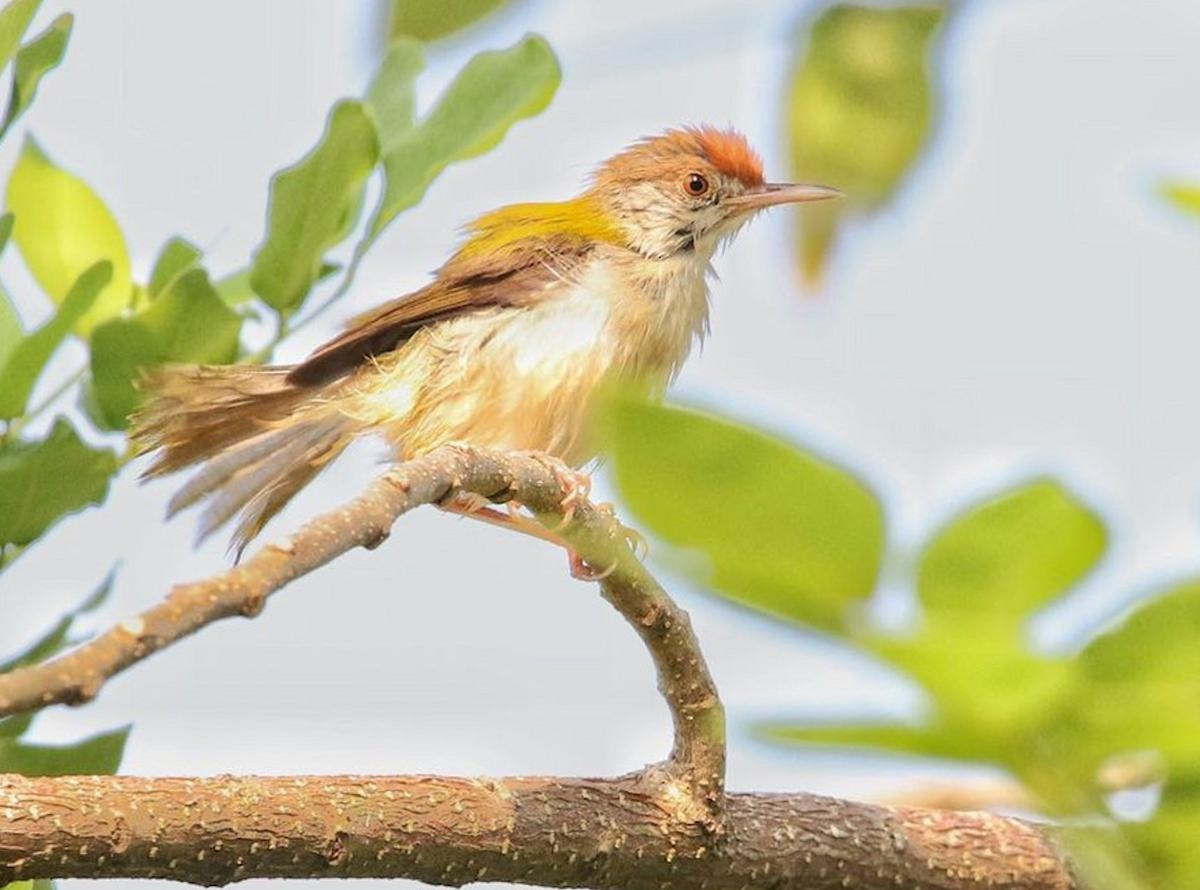tailorbird: (107, 92, 835, 542)
